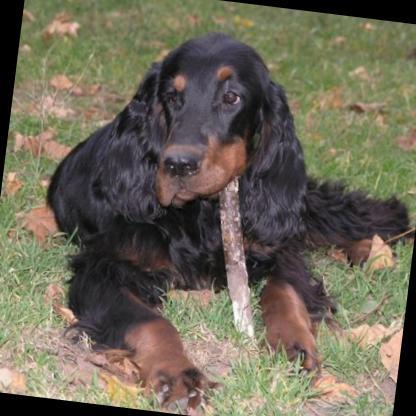Gordon_setter: (21, 7, 416, 416)
